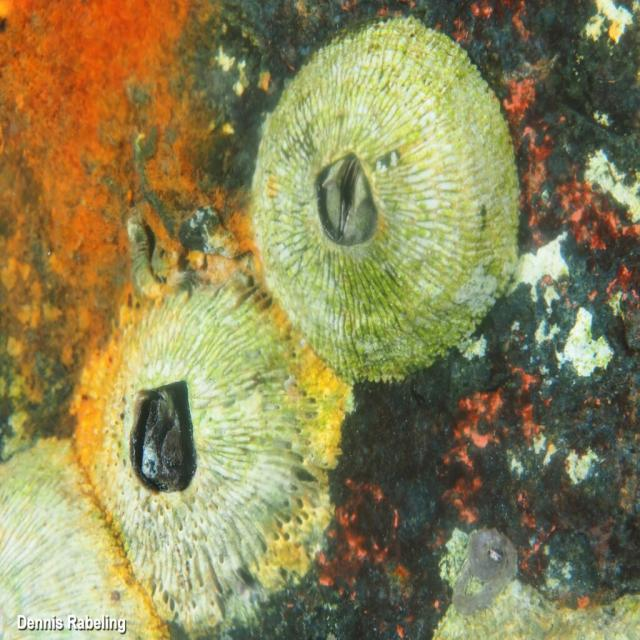barnacles: (55, 269, 330, 621), (256, 25, 519, 385)
